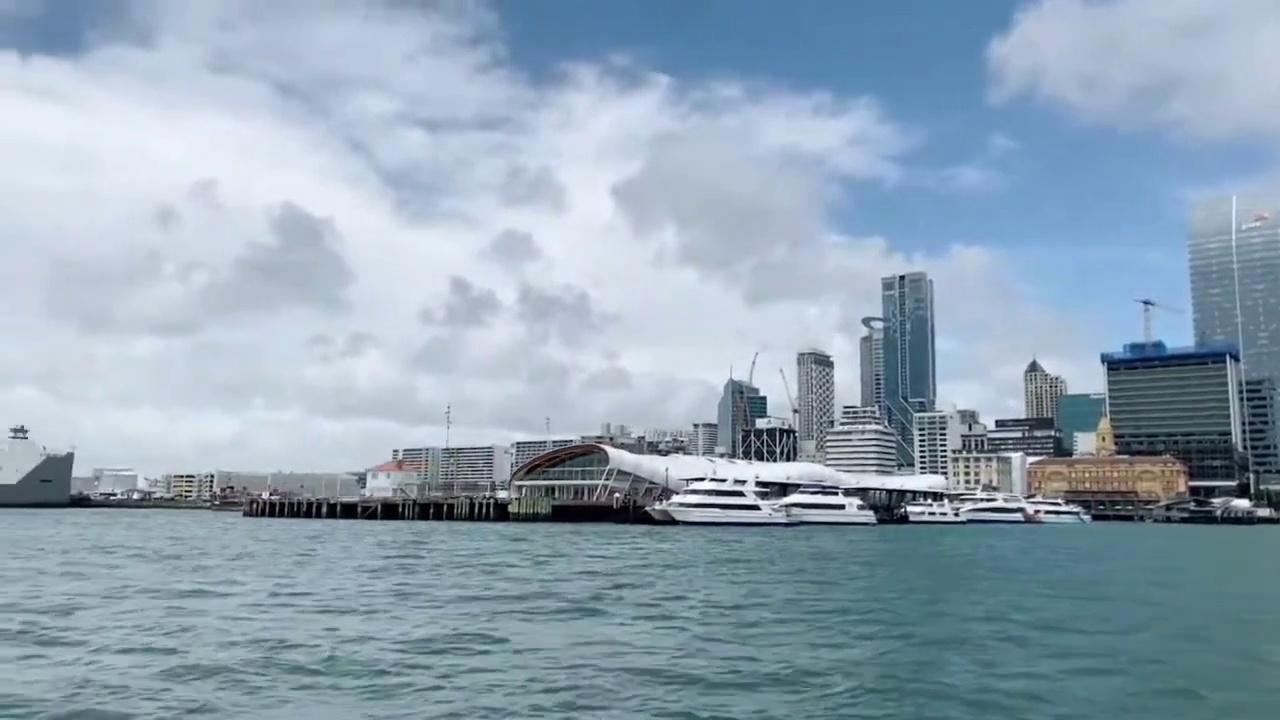ferry: (645, 475, 789, 526), (769, 484, 878, 526), (947, 489, 1036, 523), (1018, 494, 1092, 525)
